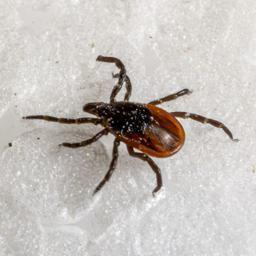Ixodes scapularis: (22, 55, 238, 197)
